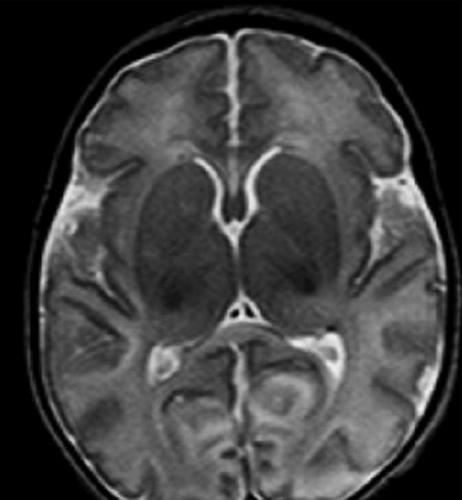Normal_Brain: (1, 5, 462, 500)
